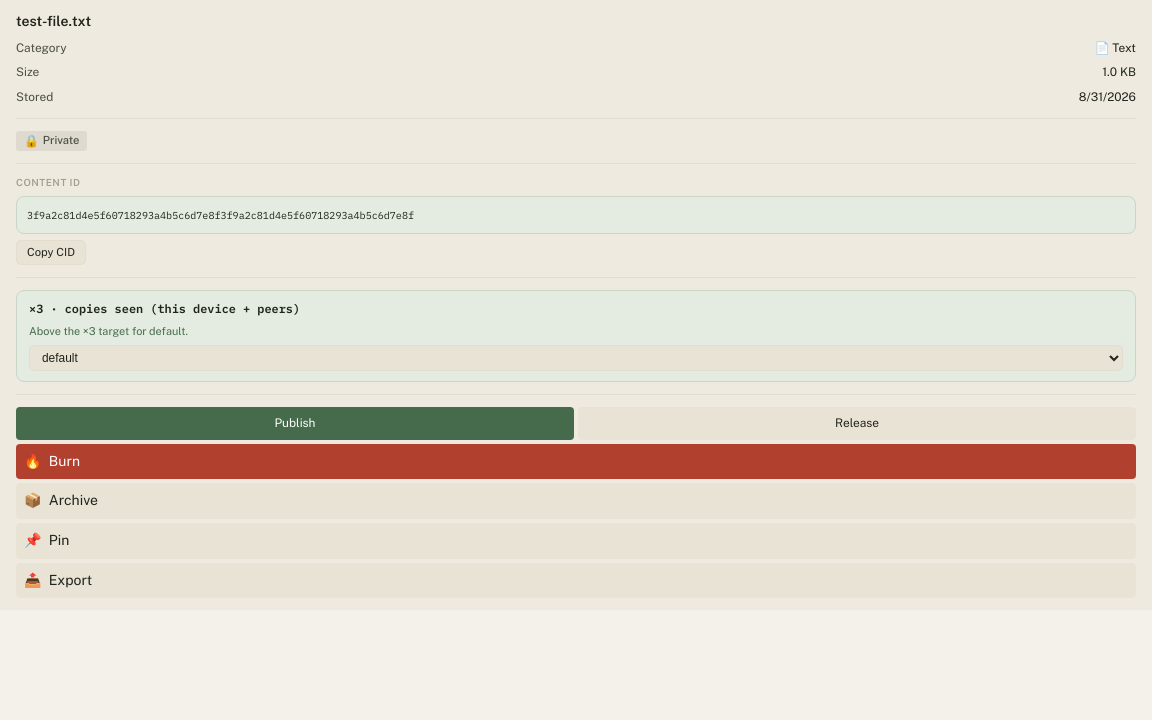
Test: FileDetailPanel › Copy CID writes the cid to the clipboard and flips to ✓ Copied
The width and height of the screenshot is (1152, 720).
Click the button "Copy CID" at (51,252), box [16, 240, 86, 265]
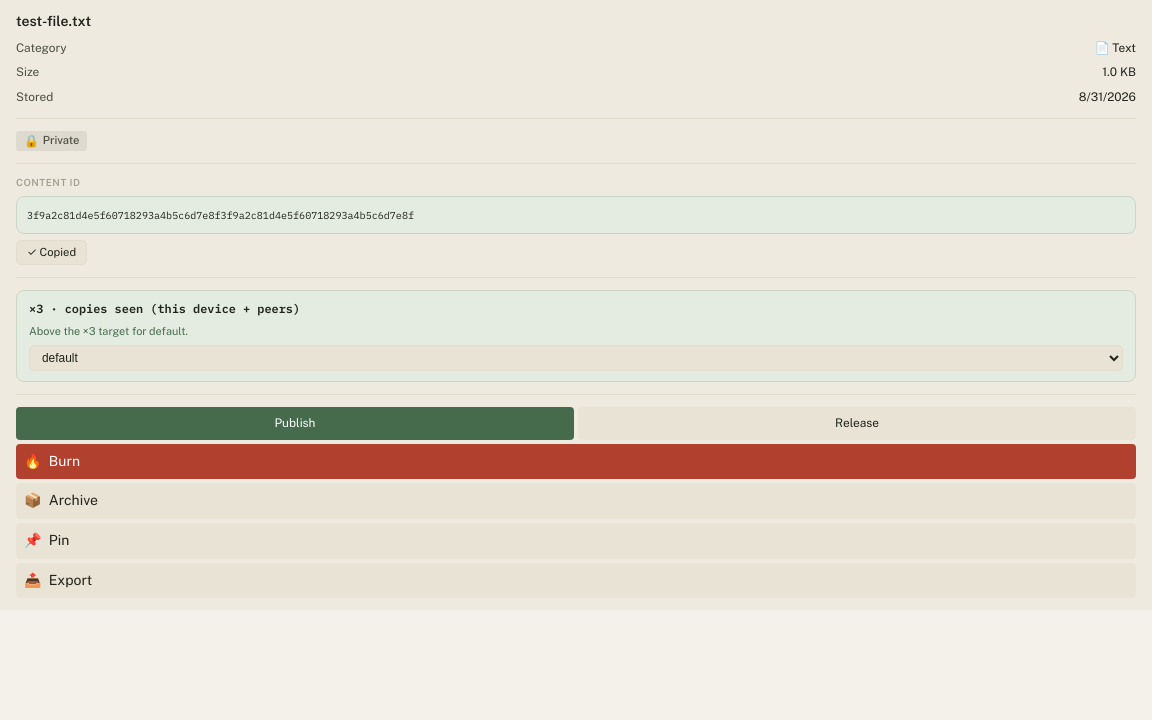
Expected: the button "✓ Copied" is shown, [16, 240, 87, 265]
